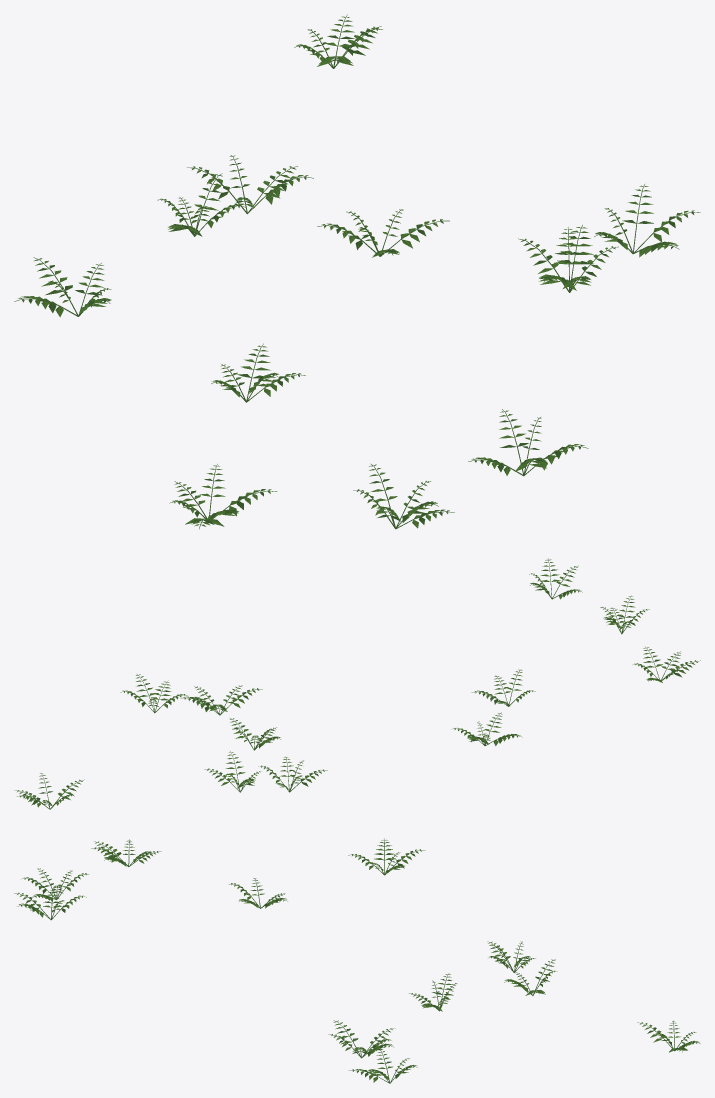
The model's file is GroundCover_20_20.glb.
3 renders of one model, top to bottom at view 1: azimuth 30°, elevation 25°; view 2: azimuth 150°, elevation 25°; view 3: azimuth 270°, elevation 25°, orthographic. The views are drawn at different scales.
Parts seen in each view (by area): view 1: GroundCover_20_20; view 2: GroundCover_20_20; view 3: GroundCover_20_20.
Part boxes in pixels (<box>): GroundCover_20_20: <box>14,14,700,529</box>; GroundCover_20_20: <box>14,558,700,809</box>; GroundCover_20_20: <box>14,838,700,1083</box>.
Size of the model in its own units: 8.55 by 1.42 by 11.65.
1 material, 1 textured.
